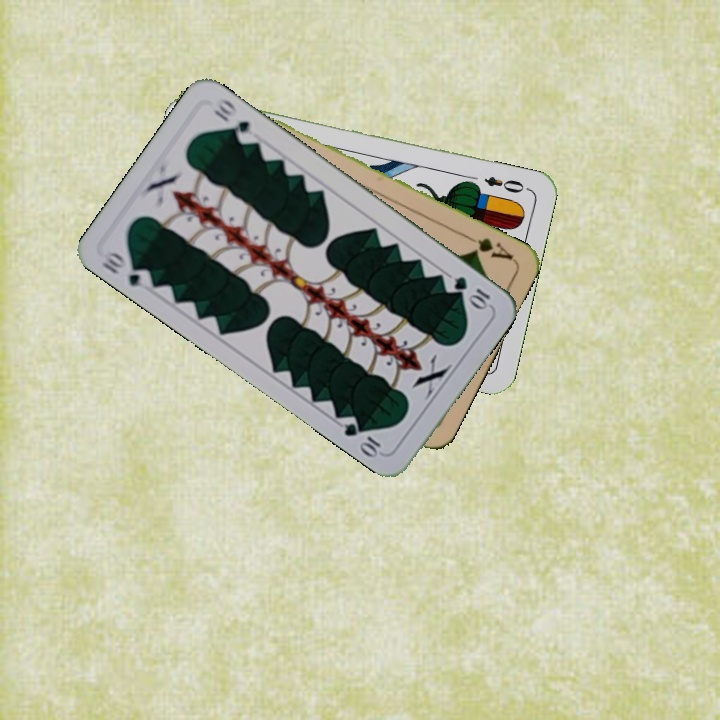EO: (480, 172, 532, 196)
G10: (98, 246, 155, 292), (450, 272, 494, 312)
GA: (461, 230, 516, 263)
